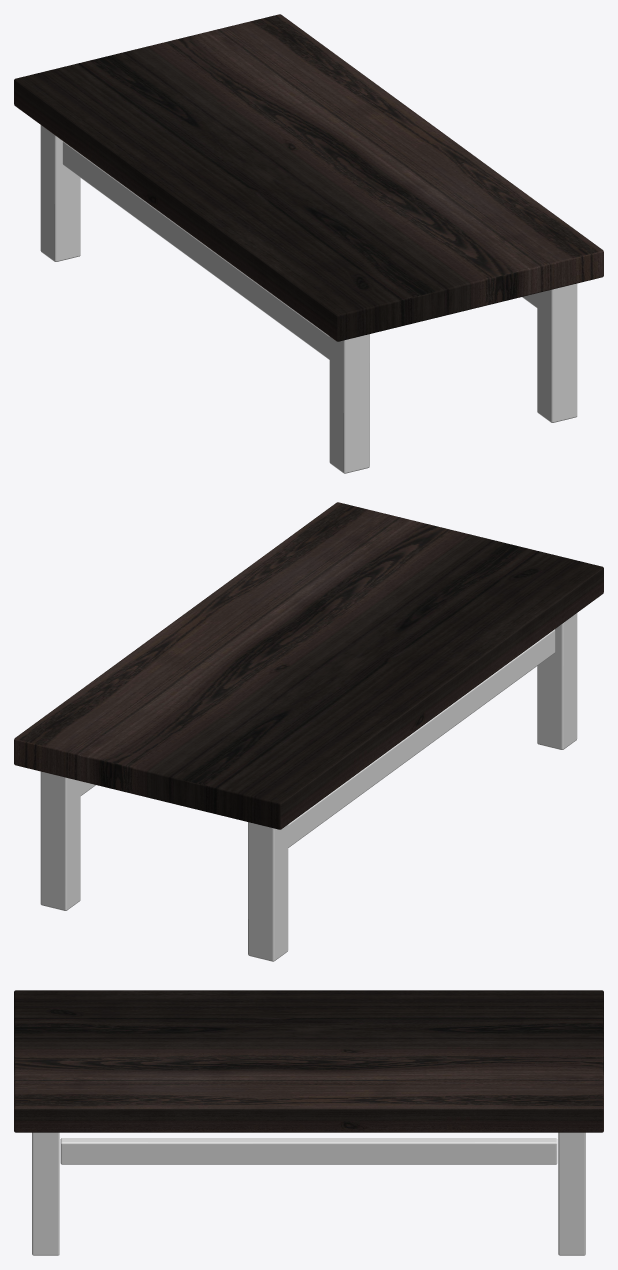
File: brown_table_1.glb
The picture shows the model from 3 angles, top to bottom: view 1: azimuth 30°, elevation 25°; view 2: azimuth 150°, elevation 25°; view 3: azimuth 270°, elevation 25°; orthographic projection. The views are drawn at different scales.
Parts seen in each view (by area): view 1: Table, Plane.020, Plane.042; view 2: Table, Plane.020, Plane.042; view 3: Table, Plane.042, Plane.020.
Part boxes in pixels (left/top/right/bottom): Table: left=14, top=14, right=603, bottom=341; Plane.020: left=40, top=125, right=577, bottom=473; Plane.042: left=62, top=141, right=537, bottom=359; Table: left=14, top=502, right=603, bottom=829; Plane.020: left=40, top=613, right=577, bottom=961; Plane.042: left=80, top=629, right=555, bottom=847; Table: left=14, top=990, right=603, bottom=1132; Plane.042: left=60, top=1138, right=557, bottom=1164; Plane.020: left=32, top=1132, right=585, bottom=1255.
Size of the model in its own units: 1.24 by 0.754 by 2.6.
2 materials, 1 textured.
